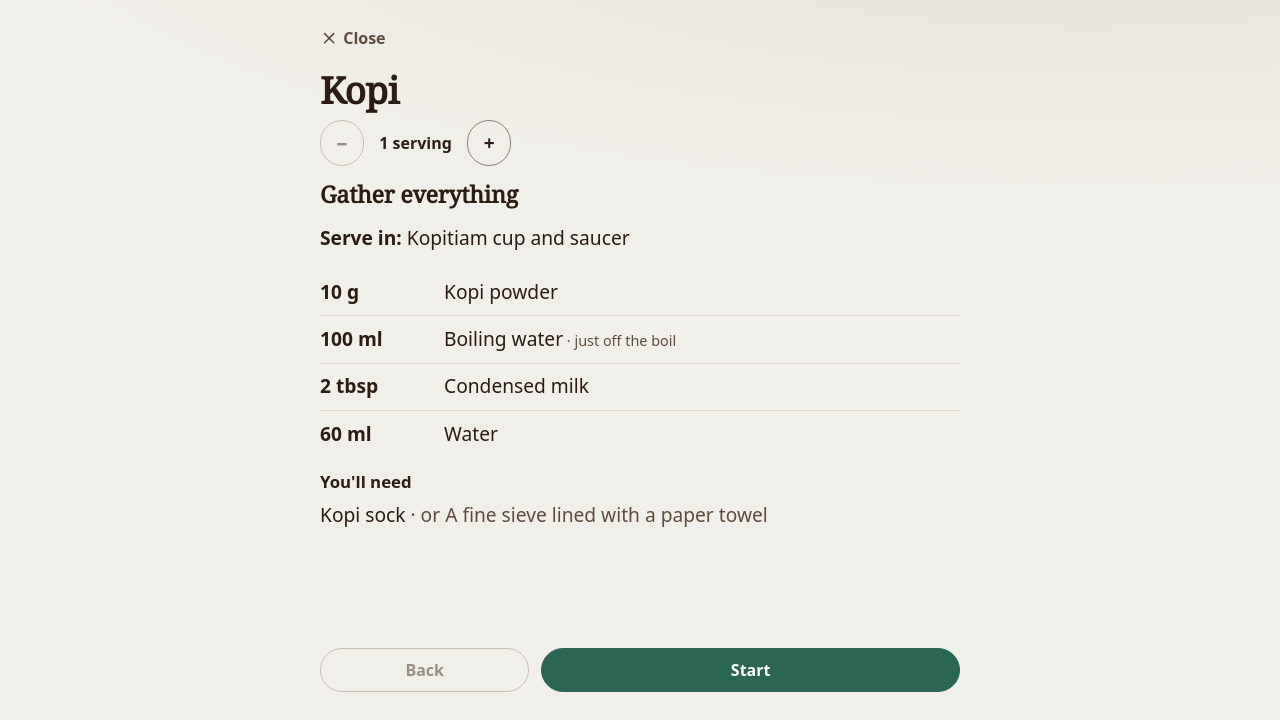
Test case: steps through the resolved steps
Expected: the heading "Kopi" is shown, [320,65,399,115]
What coordinates should you click on to do the following:
click the button "Start"
I would click on:
 (751, 670)
Its box is [541,648,960,692].
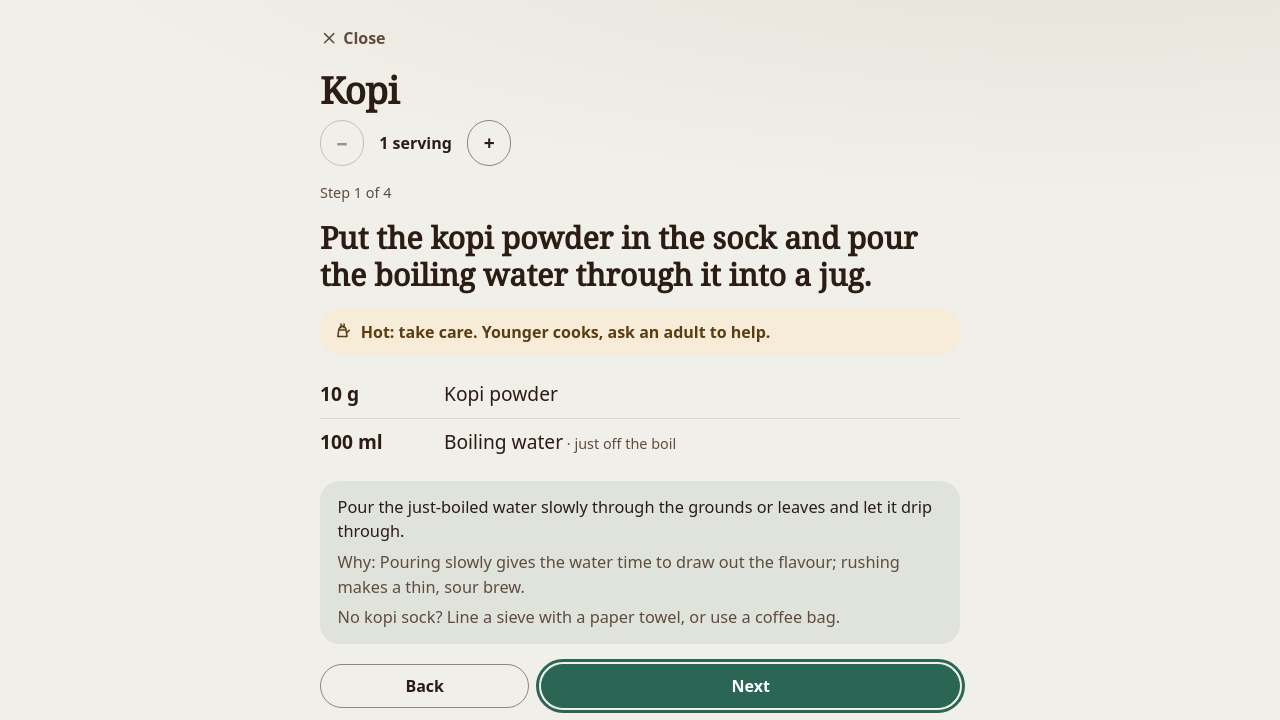
Expected: the text "Step 1 of 4" is shown, [320,184,391,202]
What coordinates should you click on to do the following:
click the button "Next"
I would click on:
 (751, 686)
Its box is [541,664,960,708].
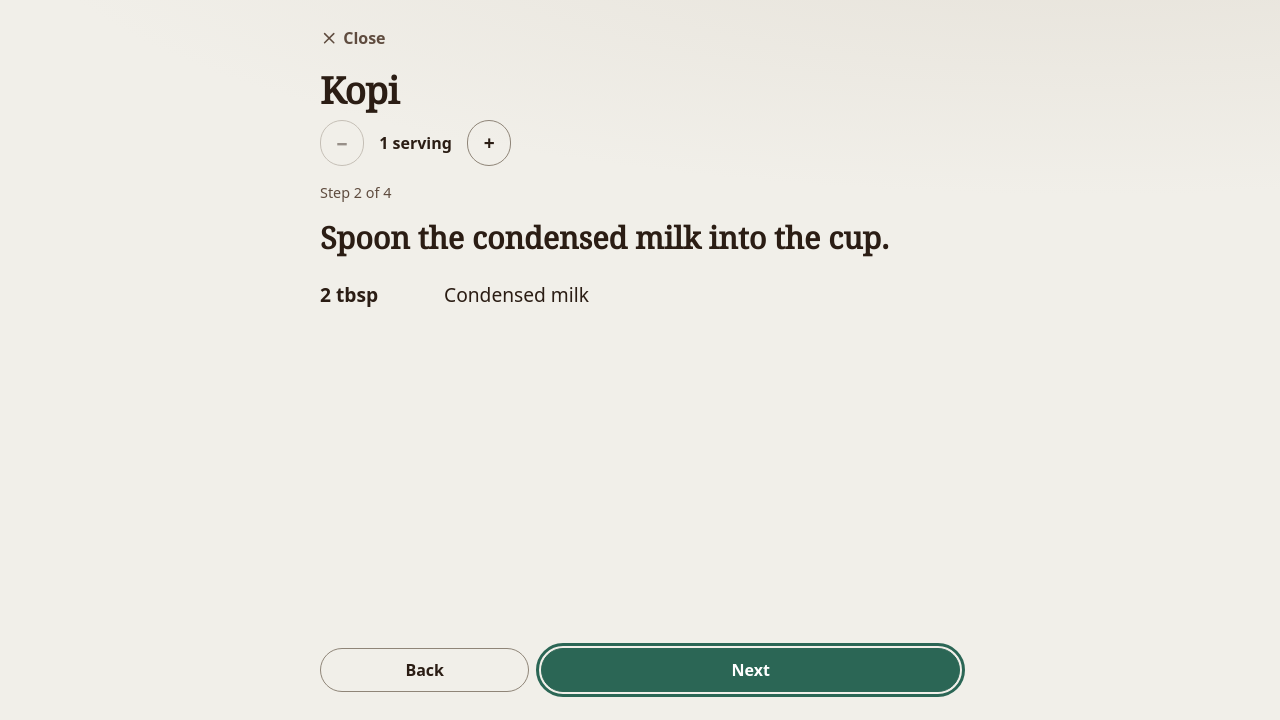
What coordinates should you click on to do the following:
click the button "Next"
I would click on:
 (751, 670)
Its box is [541,648,960,692].
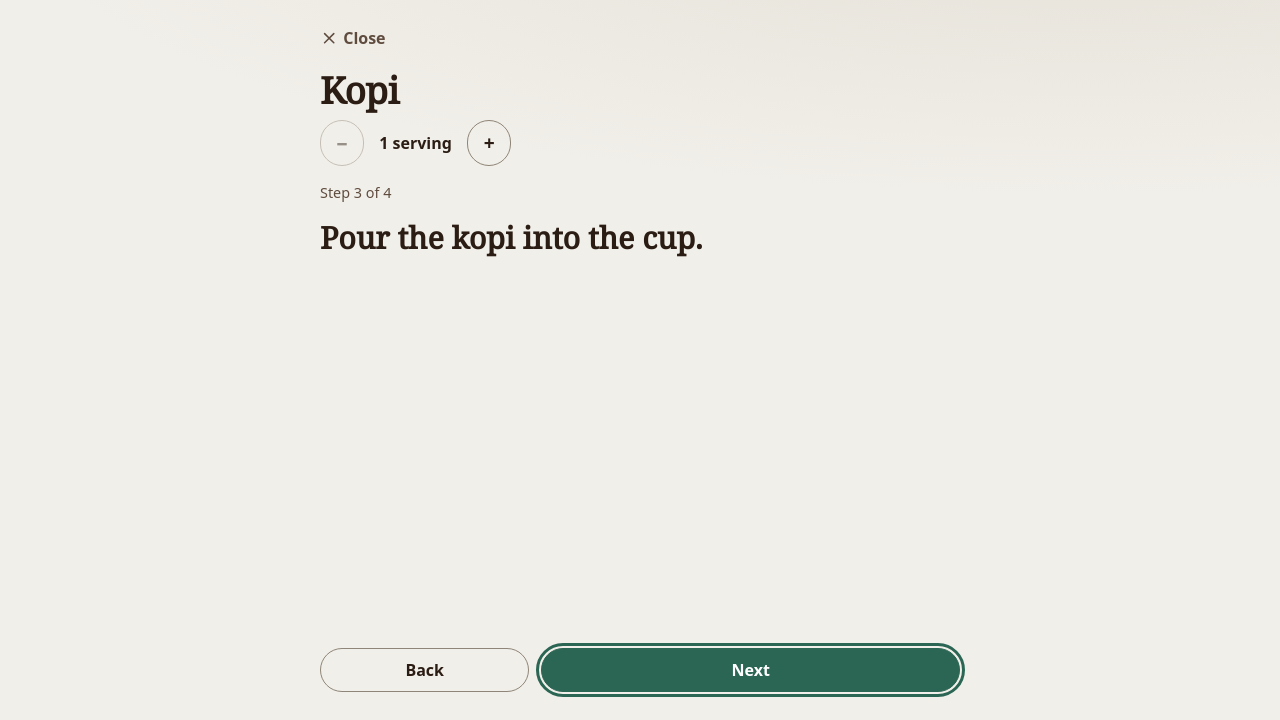
What coordinates should you click on to do the following:
click the button "Next"
I would click on:
 (751, 670)
Its box is [541,648,960,692].
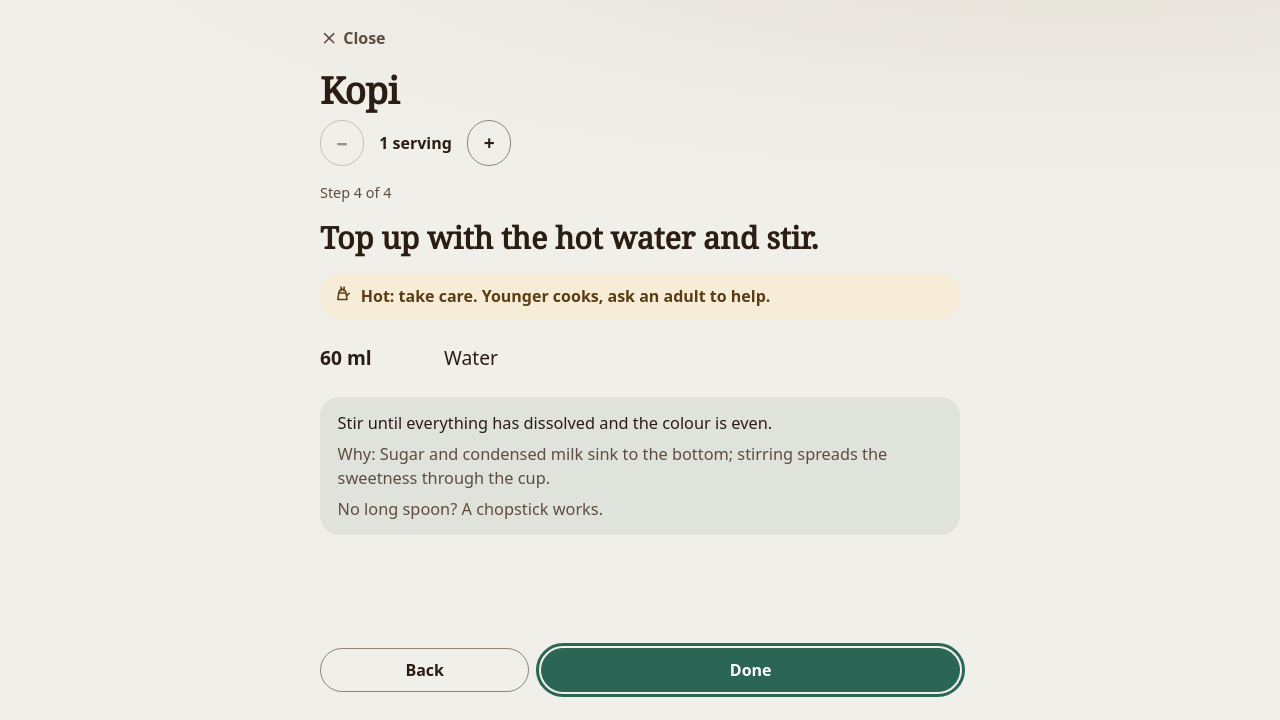
Expected: the text "Step 4 of 4" is shown, [320,184,391,202]
Expected: the button "Done" is shown, [541,648,960,692]
